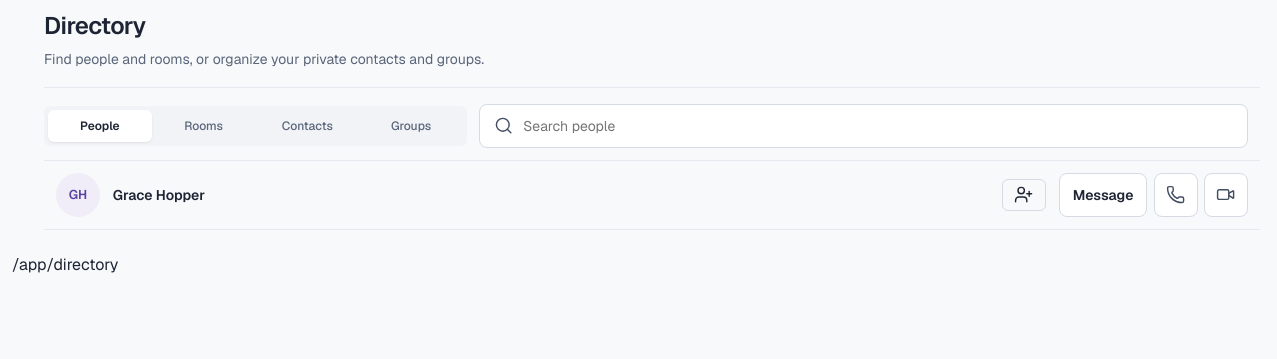
DirectoryPage › keeps the Rooms empty state hidden while a failed load is retryable
Expected: the list named "People" is shown, [44,161,1260,230]
Click the button "Rooms": (204, 126) [152,110,255,142]
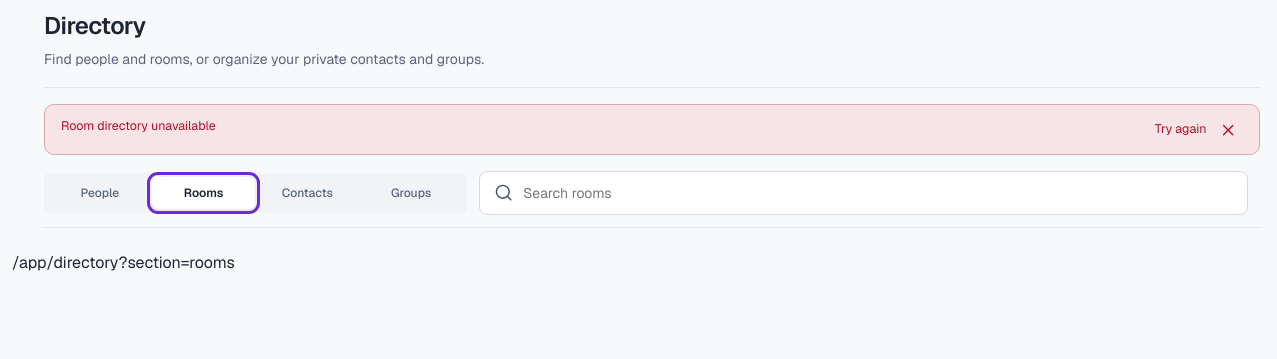
Now the message shows "Room directory unavailable", box [61,117,216,134]
Now the button "Try again" is enabled
Click the button "Try again": (1181, 129) [1149,117,1213,141]
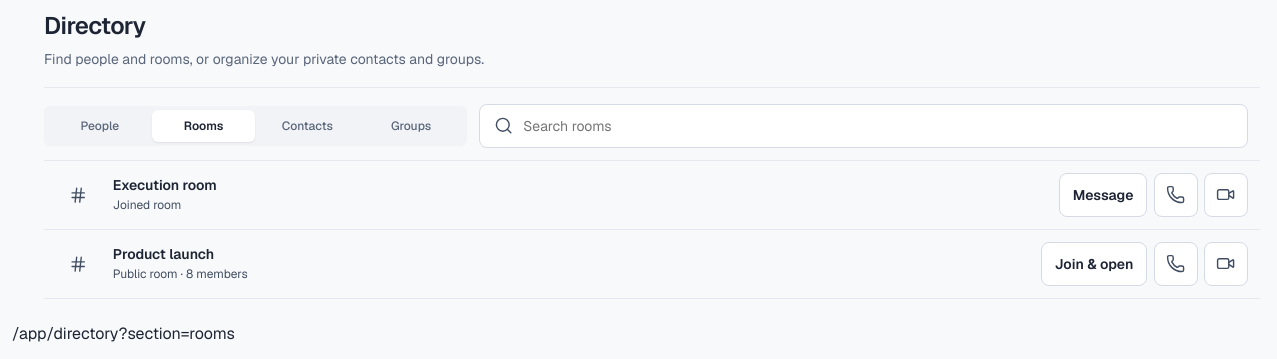
Now the text "Product launch" is shown, box [113,245,214,263]
Now the message "Room directory unavailable Try again" is gone
